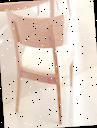Silla: (5, 1, 79, 127)
